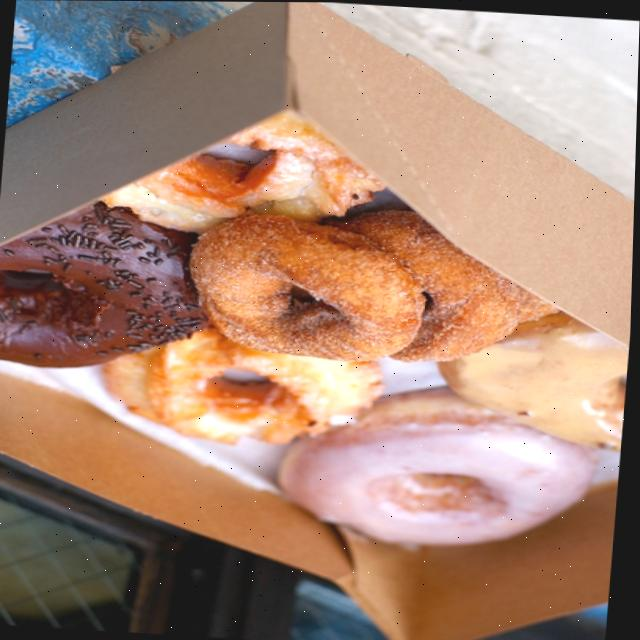炸货点心: (0, 7, 633, 624)
